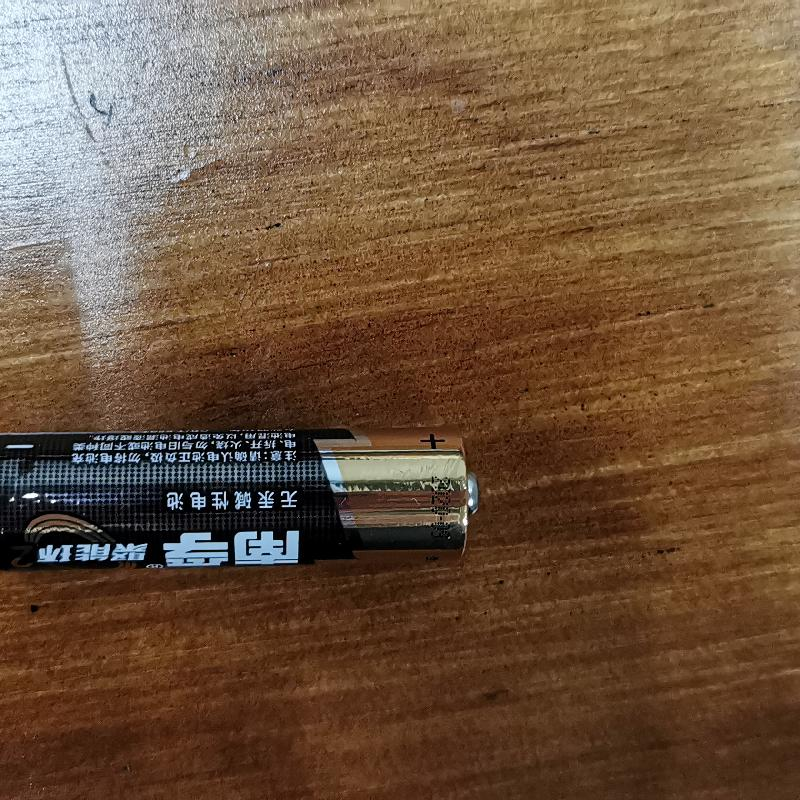battery: (0, 423, 485, 570)
